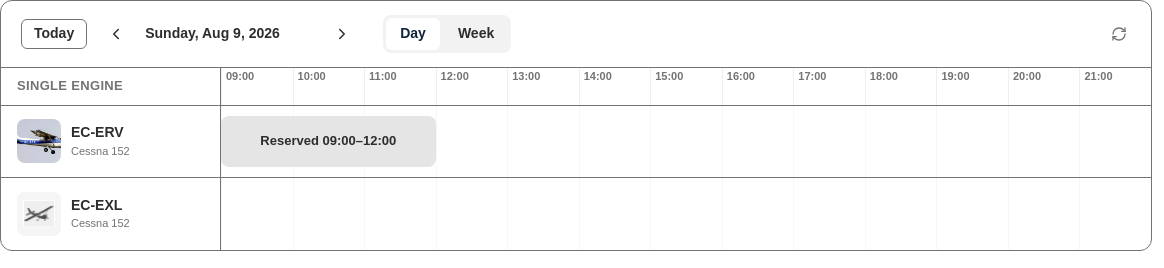
it: ScheduleBoard › only shows a dated week block within the currently viewed week
This screenshot has width=1164, height=268.
Click the button "Week": click(476, 34) 444,18 -> 508,50
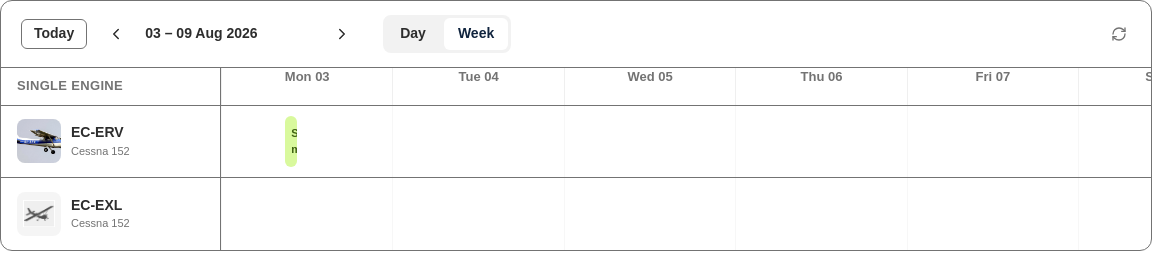
Expected: the text "Dual instruction · Alex Moreau" is not shown
Click the button named "Next": click(342, 34) 329,21 -> 355,47
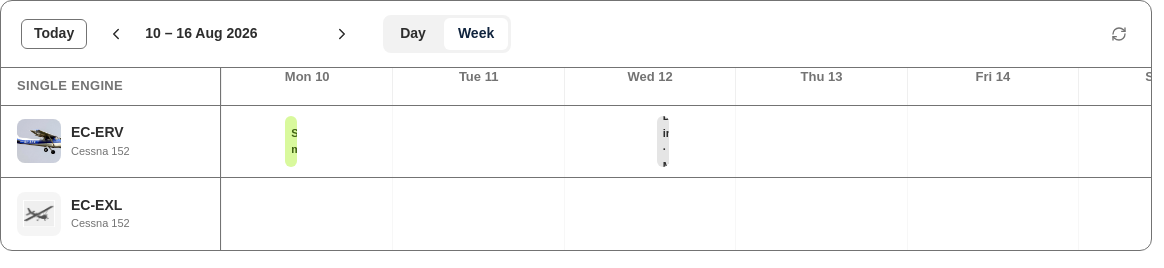
Result: the button "Dual instruction · Alex Moreau" is shown at 657,116 -> 669,167
